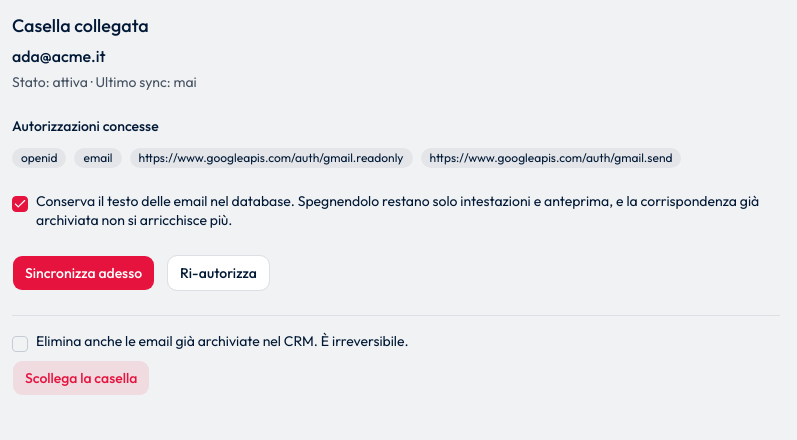
Test: GmailPanel › shows why a sync failed, and stops showing it once one succeeds
Click the button "Sincronizza adesso" at (84, 272), box [12, 254, 155, 290]
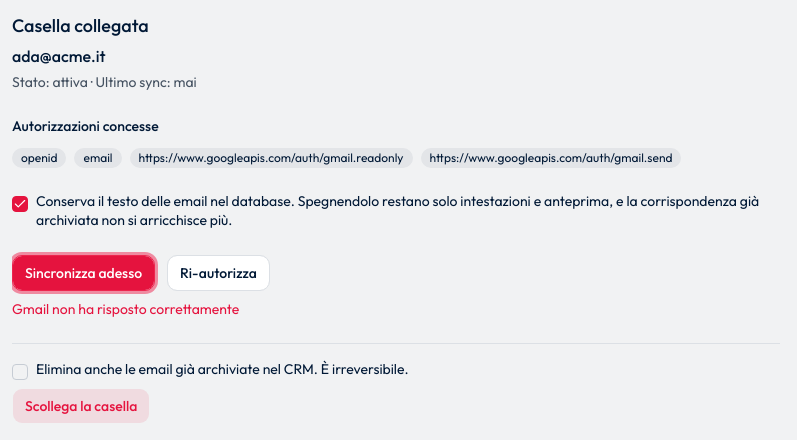
Now the text "Gmail non ha risposto correttamente" is shown, box [12, 300, 239, 318]
Click the button "Sincronizza adesso" at (84, 272), box [12, 254, 155, 290]
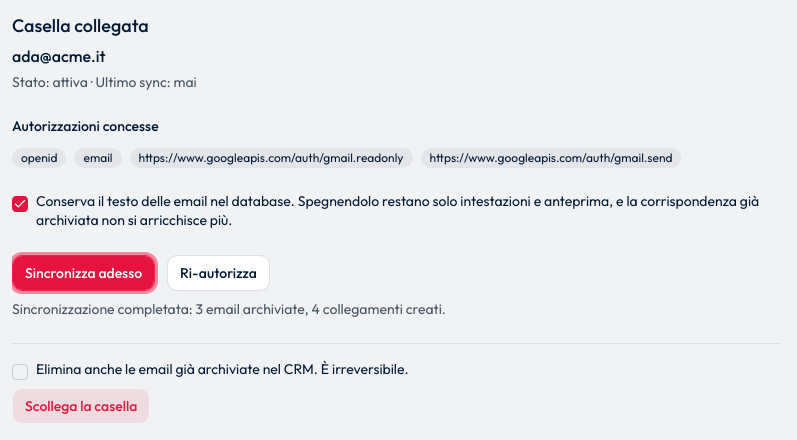
Now the text "Gmail non ha risposto correttamente" is gone
